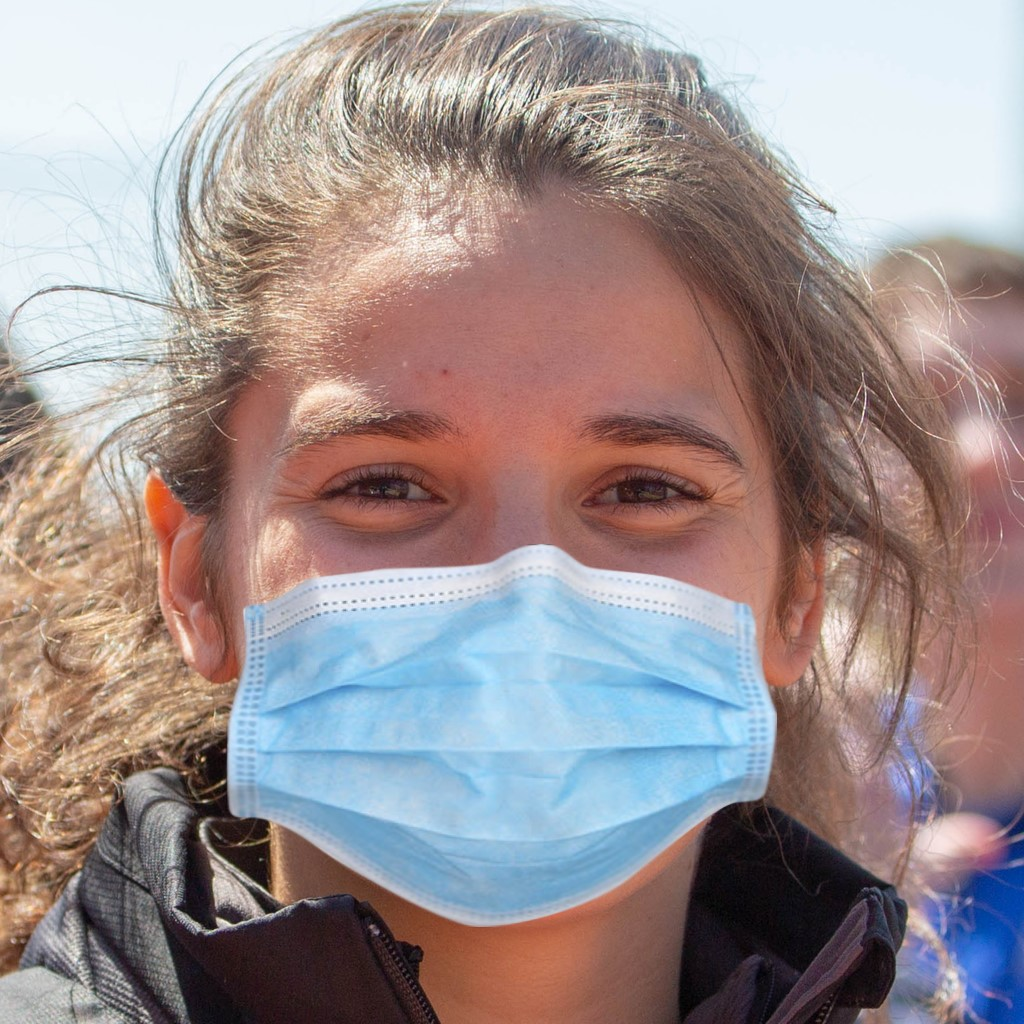con_mascara: (174, 123, 811, 927)
